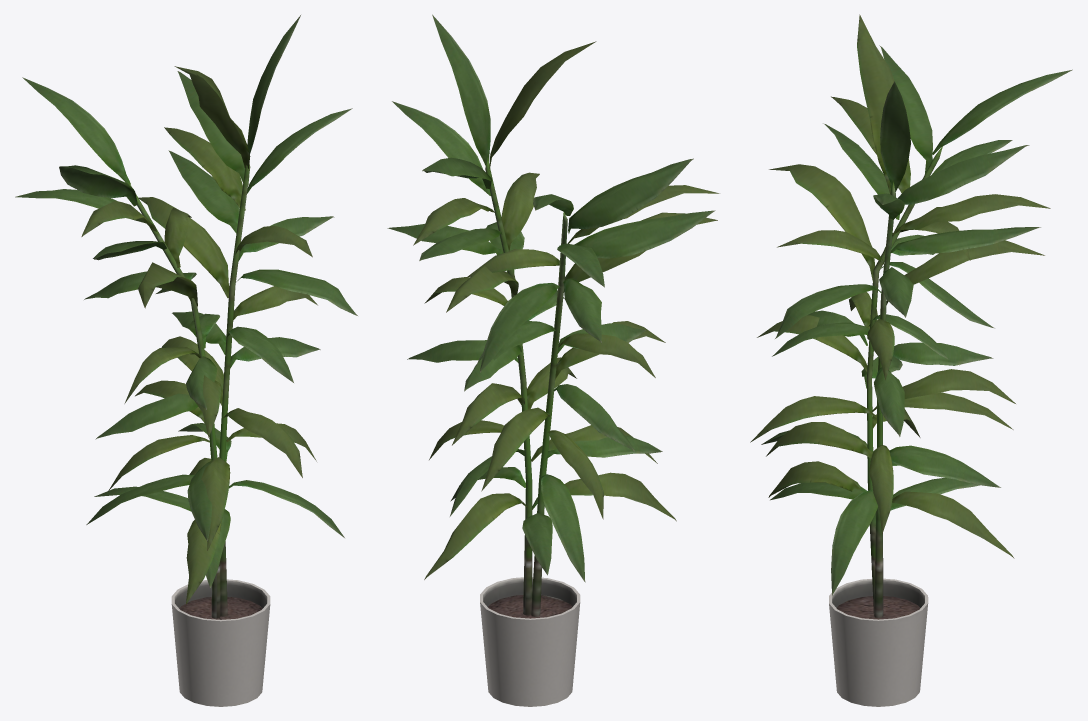
Rendered from Plant_InteriorHouse_Yucca.FBX.
3 renders of one model, left to right at view 1: azimuth 30°, elevation 25°; view 2: azimuth 150°, elevation 25°; view 3: azimuth 270°, elevation 25°, orthographic.
Parts seen in each view (by area): view 1: Plant_InteriorHouse_Yucca; view 2: Plant_InteriorHouse_Yucca; view 3: Plant_InteriorHouse_Yucca.
Part boxes in pixels (box(x1,y1,x2,y2)): Plant_InteriorHouse_Yucca: box(15, 15, 357, 706); Plant_InteriorHouse_Yucca: box(387, 14, 719, 706); Plant_InteriorHouse_Yucca: box(750, 14, 1072, 706).
Size of the model in its own units: 71.47 by 148 by 67.02.
